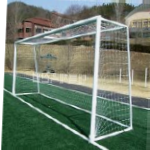goals: (12, 13, 133, 144)
